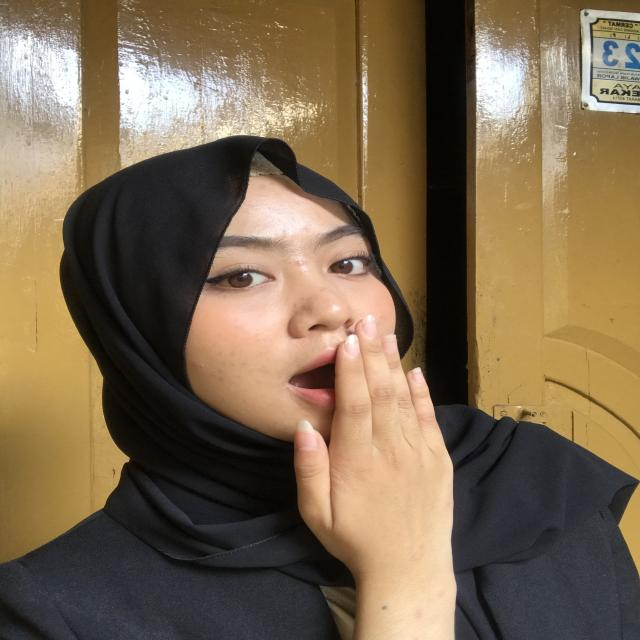ngantuk: (268, 306, 504, 620)
